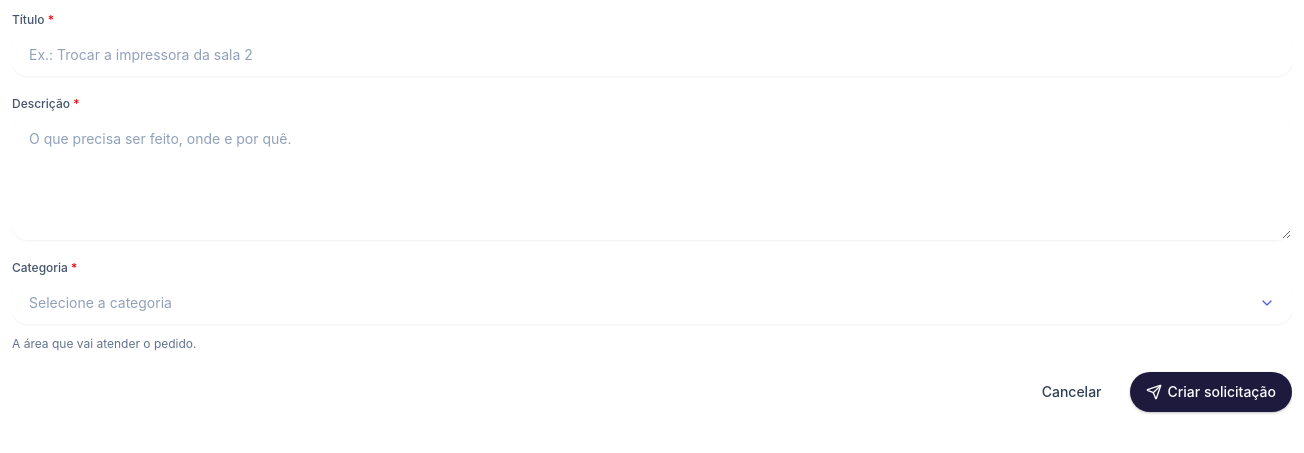
Test: DemandForm › mostra o 422 da API embaixo de cada campo e limpa o erro do campo ao editá-lo
The image size is (1304, 453).
Submit the form
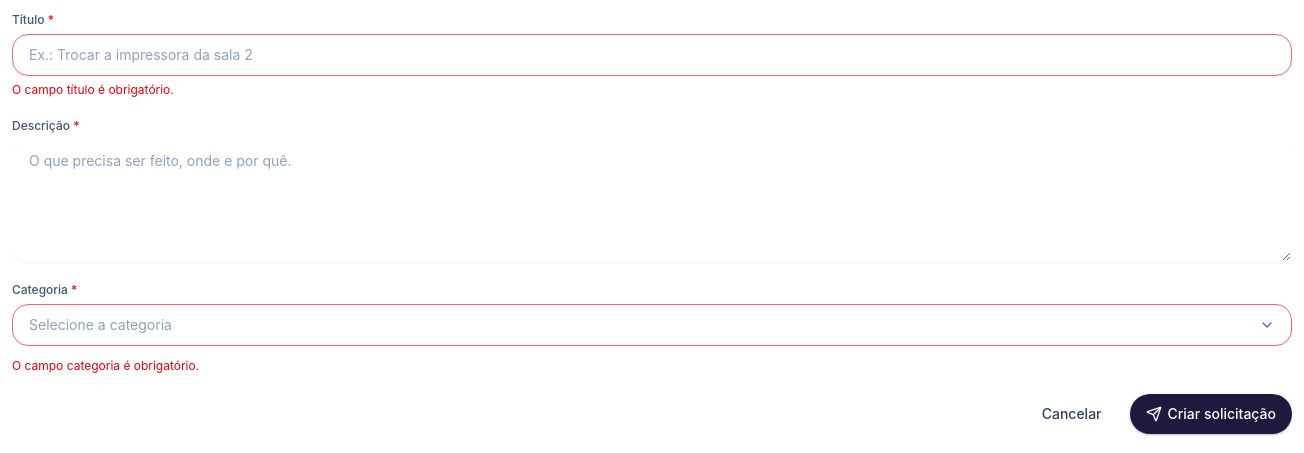
Expected: the form shows "O campo título é obrigatório.", [12,82,174,97]
Expected: the form shows "O campo categoria é obrigatório.", [12,358,199,373]
Type "T" into the field labelled "Título *" at (652, 55), box [12,34,1292,76]
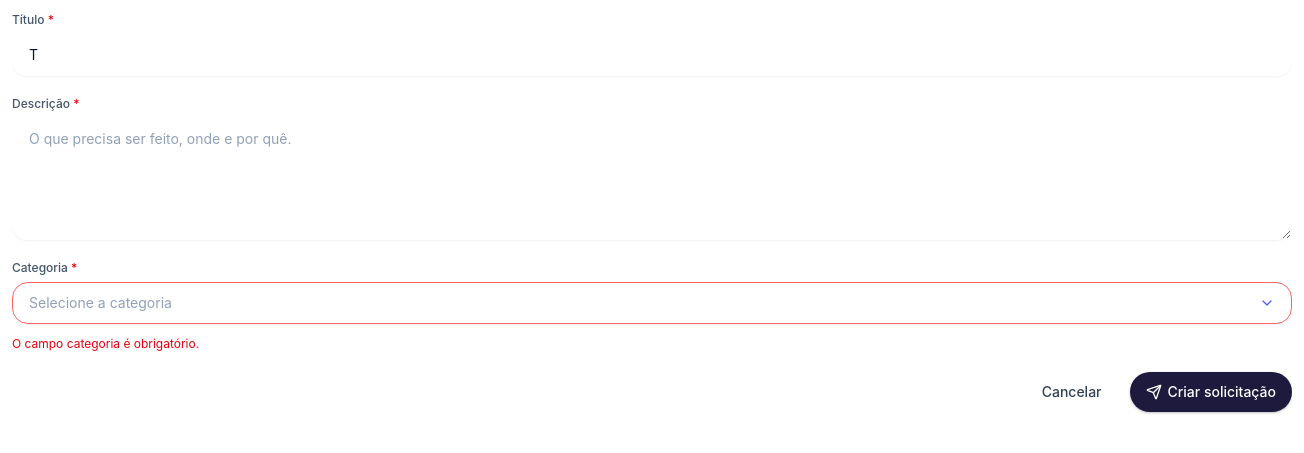
Expected: the form shows "O campo categoria é obrigatório.", [12,336,199,351]
Expected: the message "O campo título é obrigatório." no longer shows "O campo título é obrigatório."
